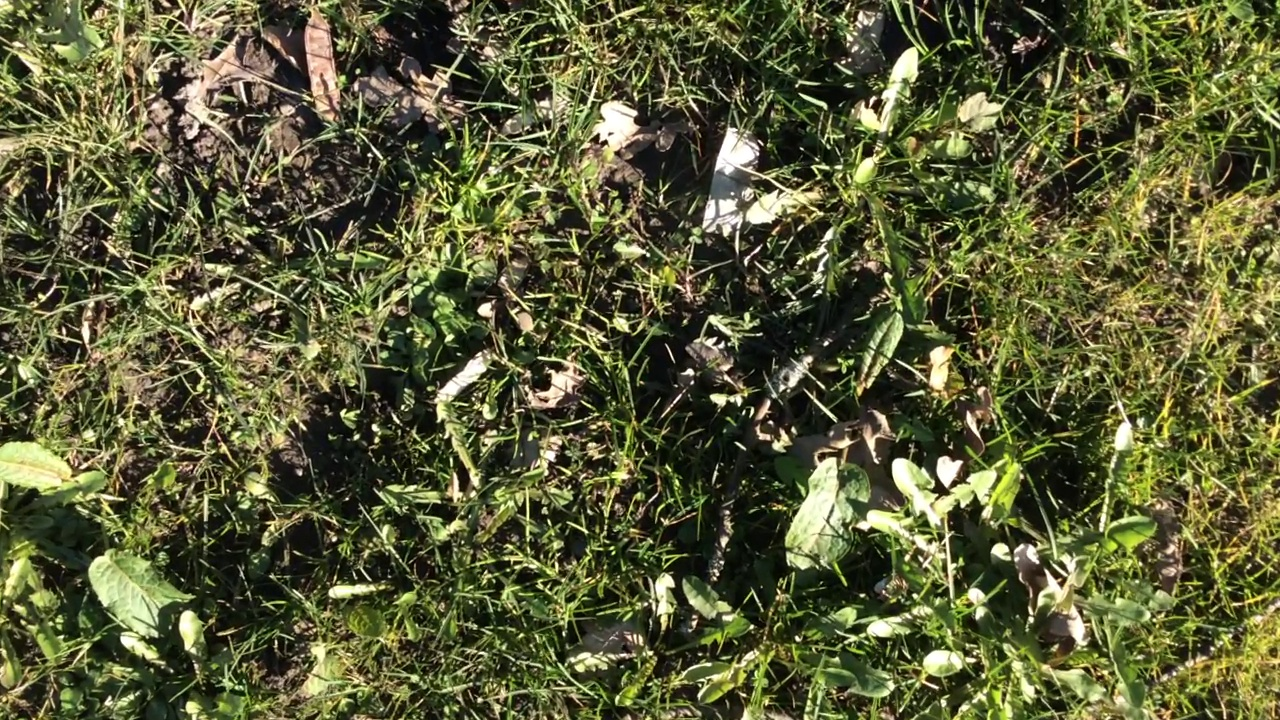rumex: (89, 556, 201, 653), (785, 458, 871, 568), (1, 444, 77, 493), (863, 312, 906, 384)
